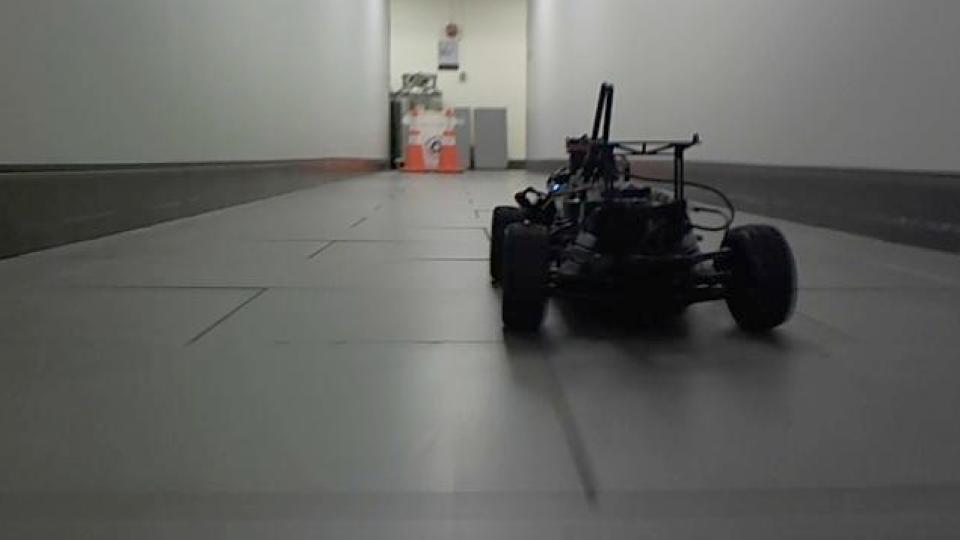car: (486, 79, 802, 342)
